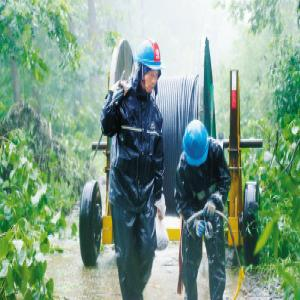blue: (135, 40, 164, 96), (183, 120, 211, 173)
